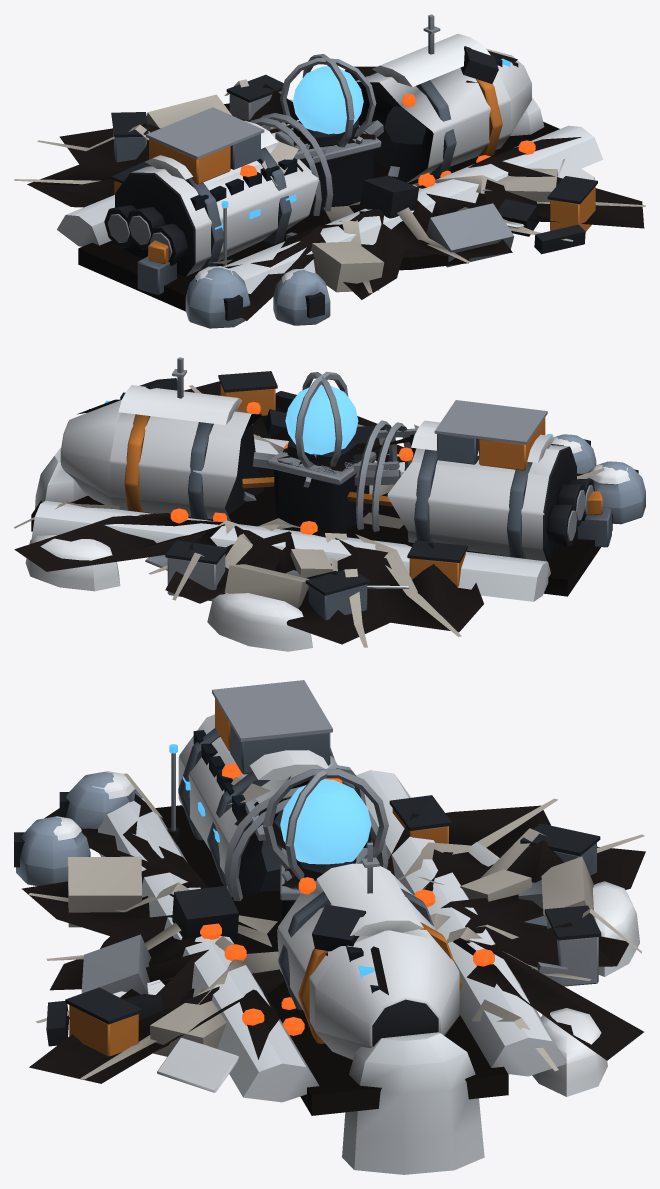
File: crash-site-vesper.glb
The picture shows the model from 3 angles, top to bottom: view 1: azimuth 30°, elevation 25°; view 2: azimuth 150°, elevation 25°; view 3: azimuth 270°, elevation 25°; orthographic projection. The views are drawn at different scales.
Parts seen in each view (by area): view 1: site_crash_site_vesper_body, site_crash_site_vesper_ruin, site_crash_site_vesper_core; view 2: site_crash_site_vesper_body, site_crash_site_vesper_ruin, site_crash_site_vesper_core; view 3: site_crash_site_vesper_body, site_crash_site_vesper_ruin, site_crash_site_vesper_core.
Part boxes in pixels (left/top/right/bottom): site_crash_site_vesper_body: left=57, top=14, right=603, bottom=328; site_crash_site_vesper_ruin: left=14, top=46, right=645, bottom=320; site_crash_site_vesper_core: left=280, top=54, right=376, bottom=147; site_crash_site_vesper_body: left=25, top=357, right=645, bottom=651; site_crash_site_vesper_ruin: left=14, top=378, right=604, bottom=647; site_crash_site_vesper_core: left=285, top=371, right=358, bottom=467; site_crash_site_vesper_body: left=14, top=680, right=639, bottom=1174; site_crash_site_vesper_ruin: left=22, top=763, right=645, bottom=1083; site_crash_site_vesper_core: left=263, top=764, right=388, bottom=879.
Size of the model in its own units: 5.72 by 2.23 by 4.99.
